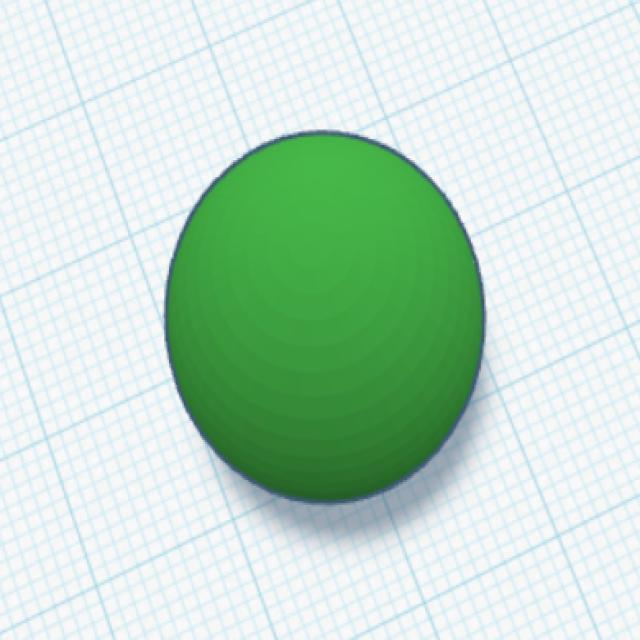sphere: (160, 126, 490, 508)
